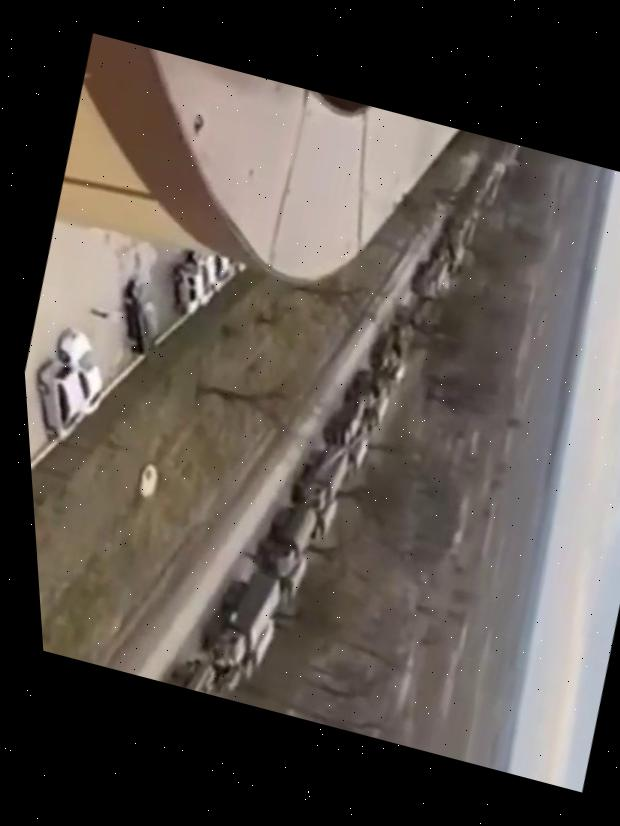car: (42, 326, 117, 416), (24, 355, 97, 445), (109, 276, 174, 358), (161, 258, 211, 318)
truck: (193, 564, 289, 676), (248, 497, 324, 586), (211, 612, 277, 700), (285, 438, 355, 516), (328, 360, 389, 414), (164, 650, 226, 696), (314, 406, 368, 453), (363, 330, 409, 378), (382, 293, 426, 343), (271, 553, 311, 608), (406, 254, 451, 301), (303, 499, 344, 548), (357, 387, 396, 436), (378, 354, 412, 400), (339, 436, 372, 482)
